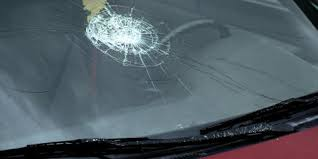bullseye: (85, 4, 176, 71)
